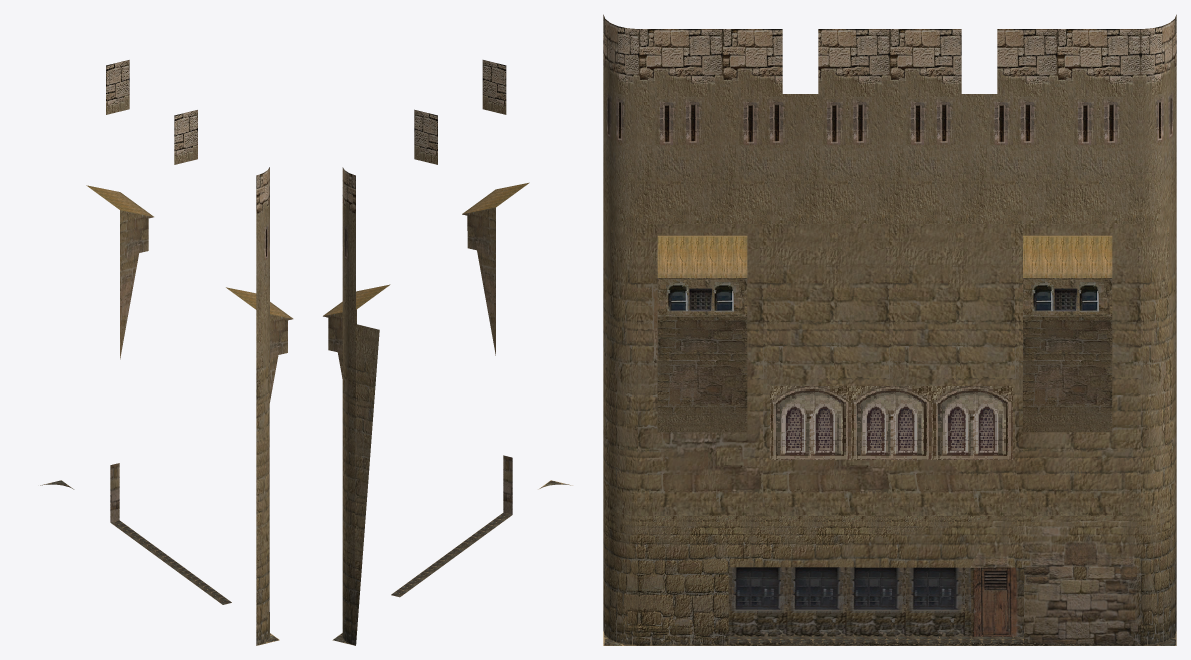
File: M7Z1_CityWall1A2.glb
The picture shows the model from 3 angles, left to right: view 1: azimuth 30°, elevation 25°; view 2: azimuth 150°, elevation 25°; view 3: azimuth 270°, elevation 25°; orthographic projection. The views are drawn at different scales.
Visible parts, largest first — view 1: M7Z1_CITYWALL1A2; view 2: M7Z1_CITYWALL1A2; view 3: M7Z1_CITYWALL1A2.
Part boxes in pixels (x1=…): M7Z1_CITYWALL1A2: x1=40, y1=60, x2=293, y2=645; M7Z1_CITYWALL1A2: x1=323, y1=60, x2=572, y2=645; M7Z1_CITYWALL1A2: x1=603, y1=14, x2=1176, y2=645.
Bounding box in the file's own units: 3.46 × 19 × 16.
Materials: 12 (12 with a texture image).
